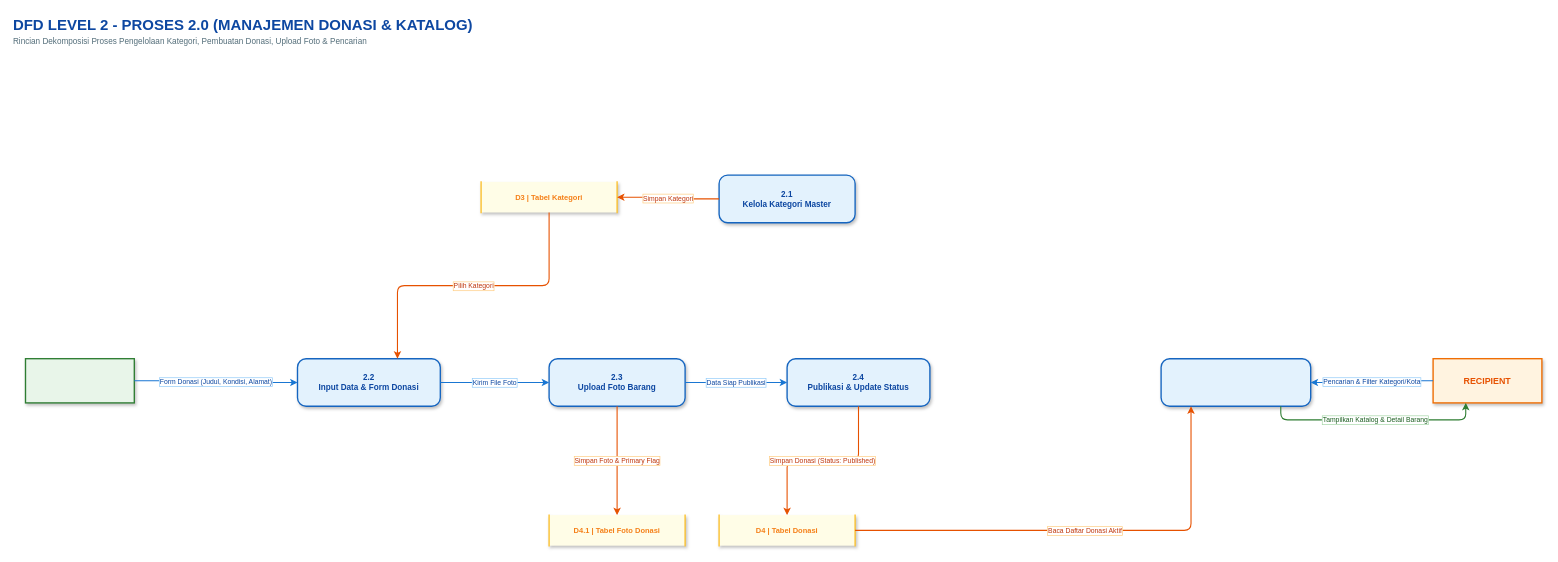
Some shapes in this 1558 by 562 pixel diagram are drawn without their labels. Here are the shapes that lost their labels. From the top down, the centre of each, then its label:
the point at 80,381: DONOR
the point at 1236,383: 2.5 Eksplorasi & Filter Donasi
